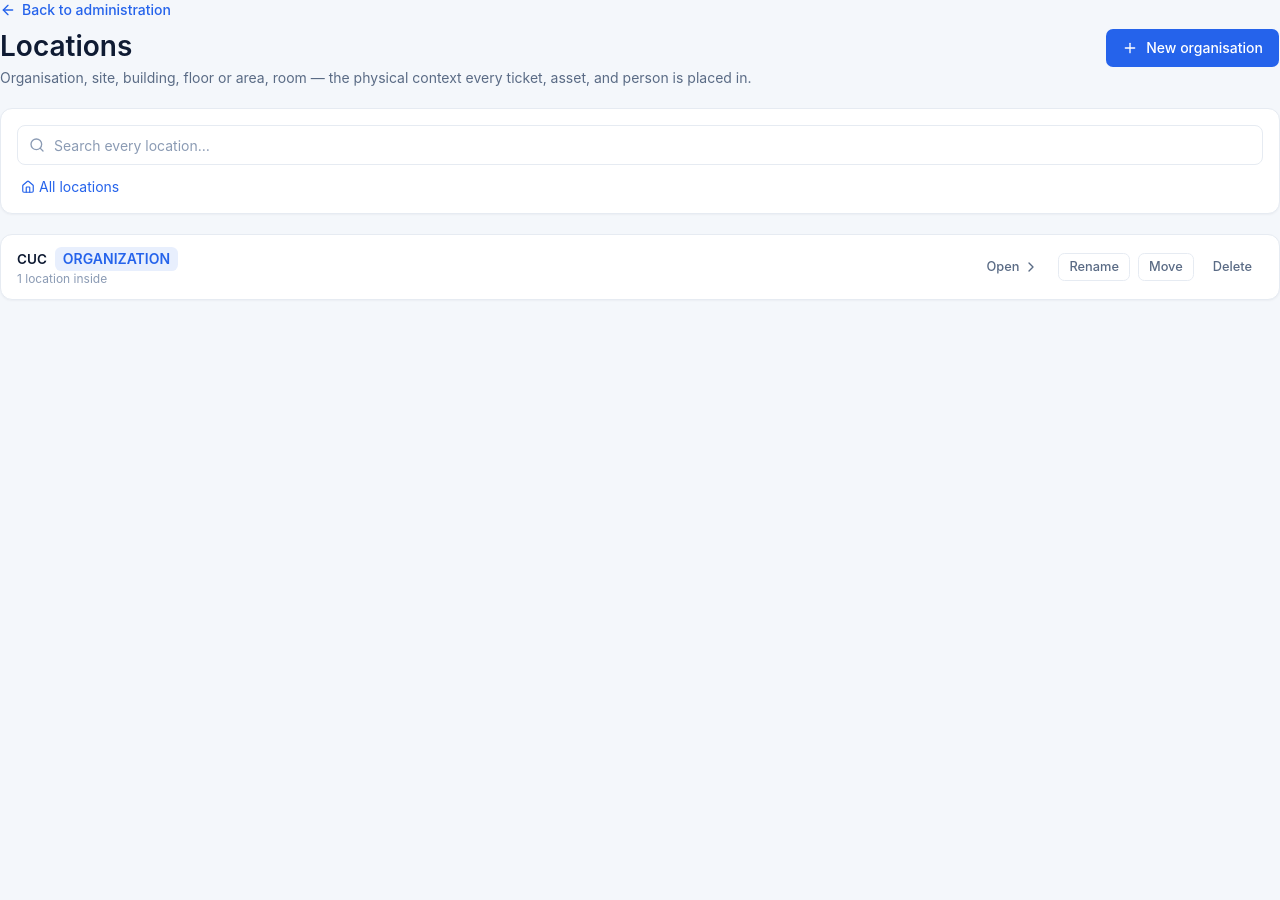
Test: LocationsPage › refuses to offer the delete when the server has already said no
expect the text "CUC" is shown: met, box [17,249,47,269]
Click the button "Delete": (1232, 267) [1202,253,1263,281]
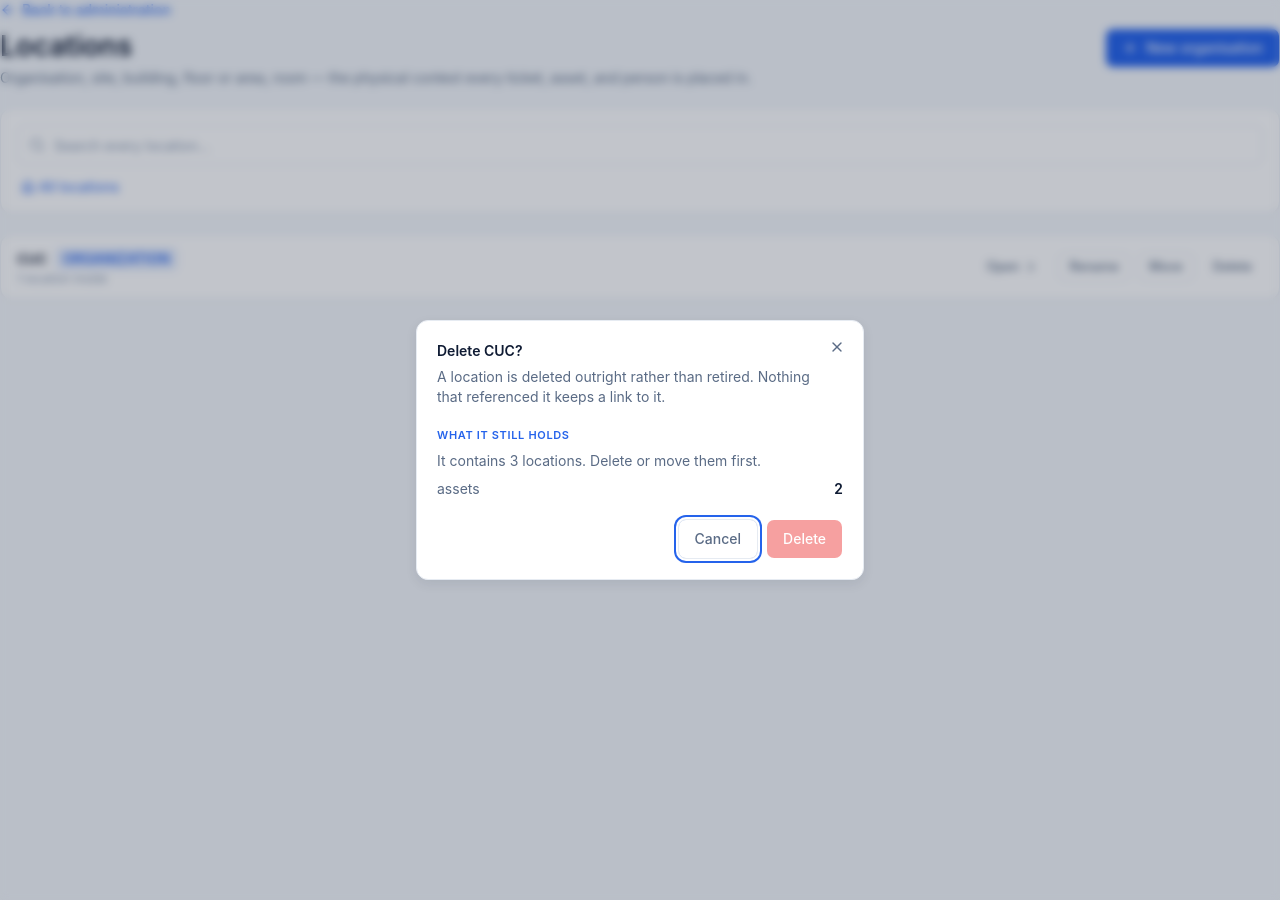
expect the text "It contains 3 locations. Delete or move them first." is shown: met, box [437,452,761,469]
expect the button "Delete" is disabled: met, box [766,519,843,559]
